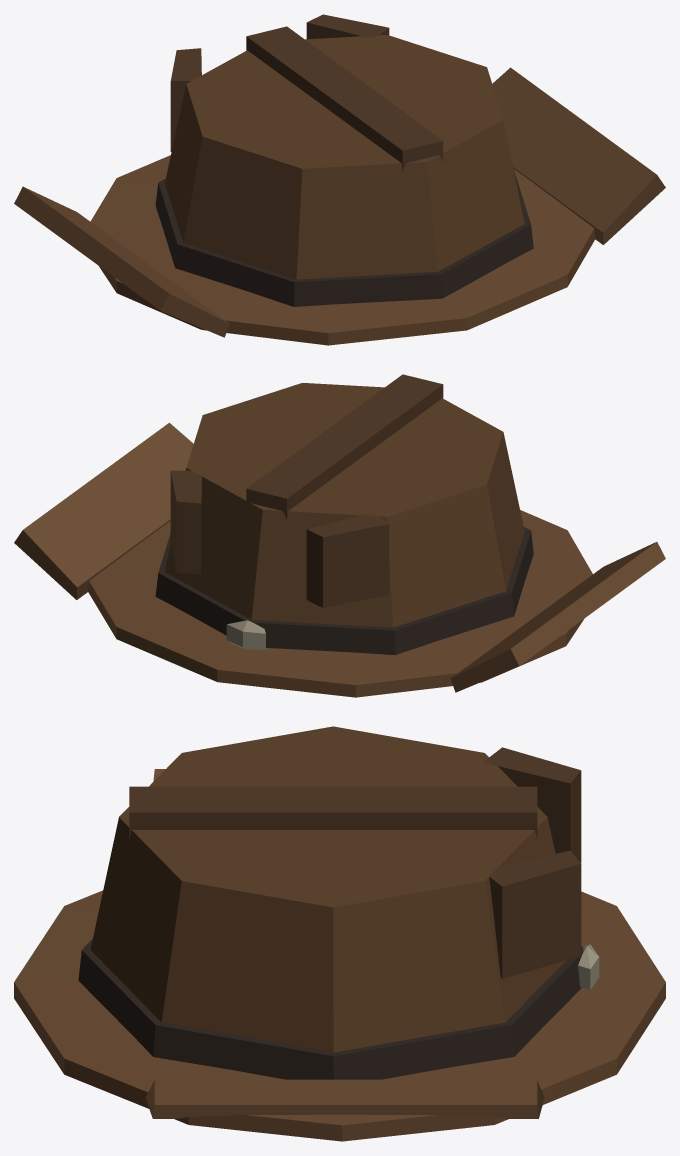
The model's file is hat_rancher.glb.
3 renders of one model, top to bottom at view 1: azimuth 30°, elevation 25°; view 2: azimuth 150°, elevation 25°; view 3: azimuth 270°, elevation 25°, orthographic. The views are drawn at different scales.
Visible parts, largest first — view 1: Hat; view 2: Hat; view 3: Hat.
Boxes of the visible parts, bbox=[...] form: Hat: bbox=[14, 14, 665, 345]; Hat: bbox=[14, 374, 665, 697]; Hat: bbox=[14, 726, 665, 1141].
Bounding box in the file's own units: 0.5972 × 0.179 × 0.5112.
